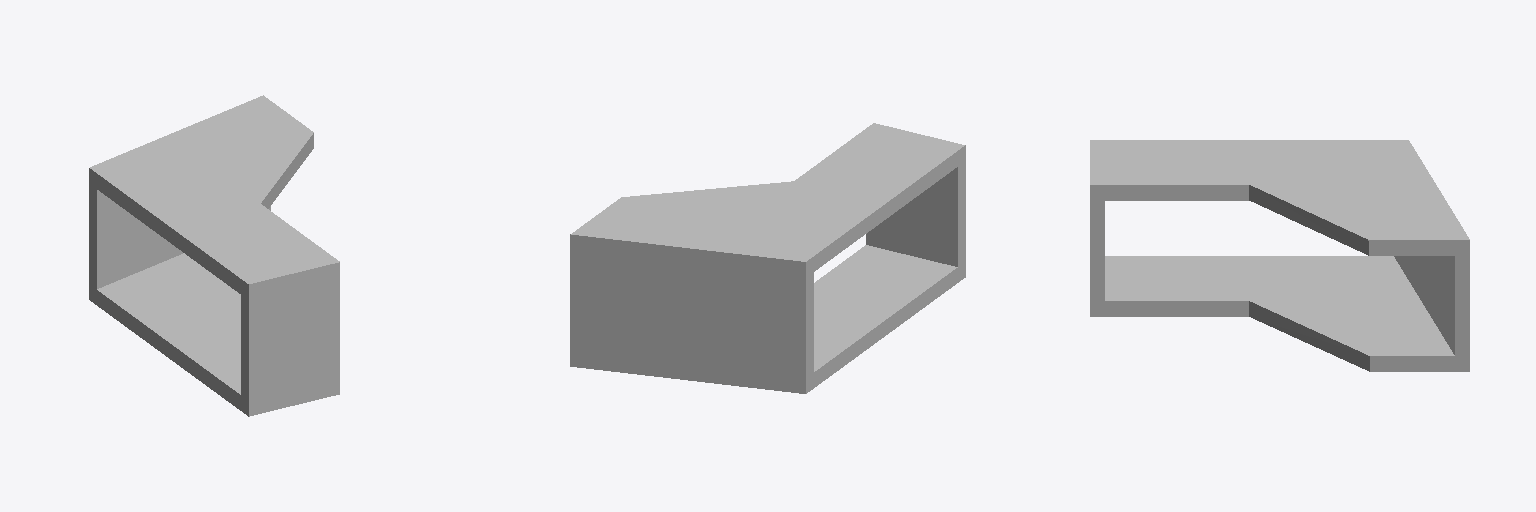
The model's file is CashierTable.obj.
3 views of the same model, side by side, from view 1: azimuth 30°, elevation 25°; view 2: azimuth 150°, elevation 25°; view 3: azimuth 270°, elevation 25° (orthographic).
Parts seen in each view (by area): view 1: pCube1; view 2: pCube1; view 3: pCube1.
Boxes of the visible parts, x1=… form: pCube1: x1=89, y1=95, x2=339, y2=416; pCube1: x1=570, y1=123, x2=965, y2=393; pCube1: x1=1090, y1=140, x2=1469, y2=371.
Size of the model in its own units: 4.69 by 2.89 by 7.54.